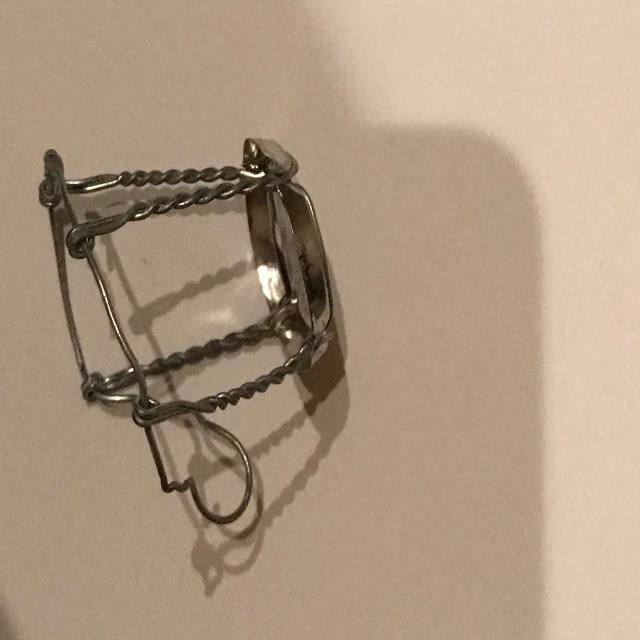metal: (39, 135, 334, 525)
